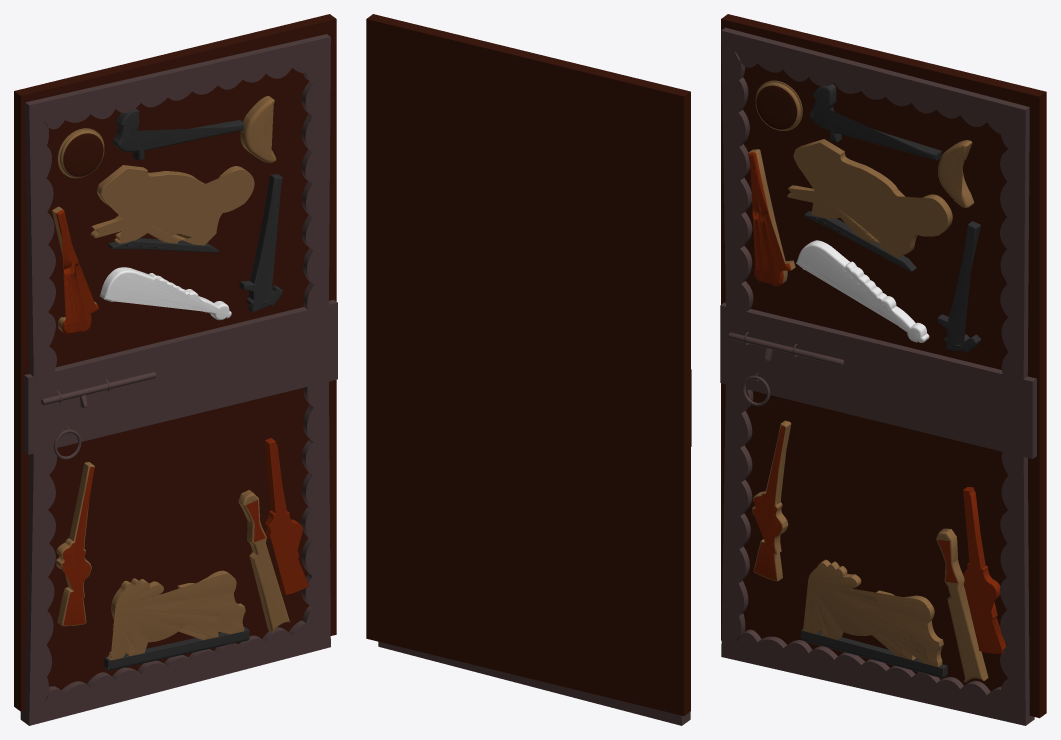
Rendered from Portail_3.fbx.
The picture shows the model from 3 angles, left to right: view 1: azimuth 30°, elevation 25°; view 2: azimuth 150°, elevation 25°; view 3: azimuth 330°, elevation 25°; orthographic projection.
Visible parts, largest first — view 1: Cube, Extrusion_9, Cube_1, Extrusion_5, Extrusion, Extrusion_1, Extrusion_4, Extrusion_2, Extrusion_3, Extrusion_8, Cylindre_1, Extrusion_7 (+1 smaller); view 2: Cube, Extrusion_9; view 3: Cube, Extrusion_9, Cube_1, Extrusion_5, Extrusion, Extrusion_1, Extrusion_4, Extrusion_2, Extrusion_8, Extrusion_3, Cylindre_1, Extrusion_7 (+1 smaller).
Boxes of the visible parts, x1,y1,x2,y2 form: Cube: [14, 14, 336, 711]; Extrusion_9: [20, 34, 330, 725]; Cube_1: [24, 299, 337, 454]; Extrusion_5: [52, 165, 254, 334]; Extrusion: [56, 462, 245, 660]; Extrusion_1: [104, 490, 290, 670]; Extrusion_4: [100, 267, 231, 320]; Extrusion_2: [265, 438, 308, 594]; Extrusion_3: [239, 174, 282, 311]; Extrusion_8: [112, 108, 244, 160]; Cylindre_1: [57, 128, 104, 178]; Extrusion_7: [240, 96, 276, 162]; Cube: [366, 14, 690, 715]; Extrusion_9: [378, 641, 690, 725]; Cube: [721, 14, 1046, 718]; Extrusion_9: [721, 27, 1034, 725]; Cube_1: [720, 302, 1036, 458]; Extrusion_5: [748, 139, 952, 286]; Extrusion: [752, 420, 943, 666]; Extrusion_1: [800, 528, 988, 682]; Extrusion_4: [796, 240, 929, 342]; Extrusion_2: [963, 487, 1006, 653]; Extrusion_8: [809, 84, 941, 160]; Extrusion_3: [937, 221, 980, 352]; Cylindre_1: [755, 80, 802, 130]; Extrusion_7: [937, 140, 974, 207].
Size of the model in its own units: 416 by 790 by 39.05.
